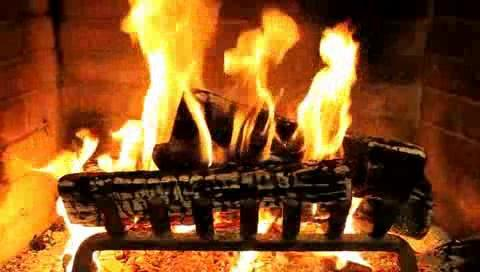fire: (119, 4, 357, 169)
